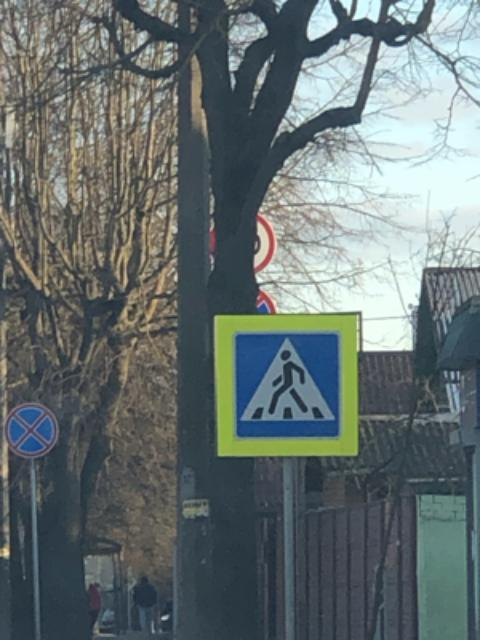crosswalk-sign: (213, 310, 361, 458)
